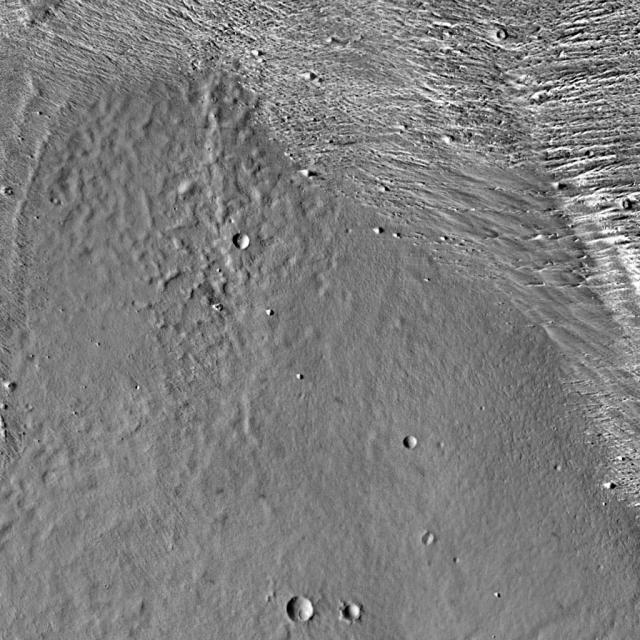crater: (292, 600, 318, 626), (351, 606, 368, 623), (241, 237, 256, 252), (47, 472, 61, 487), (412, 438, 425, 452), (428, 536, 439, 546), (504, 33, 512, 41), (552, 458, 560, 466), (452, 552, 458, 558)
